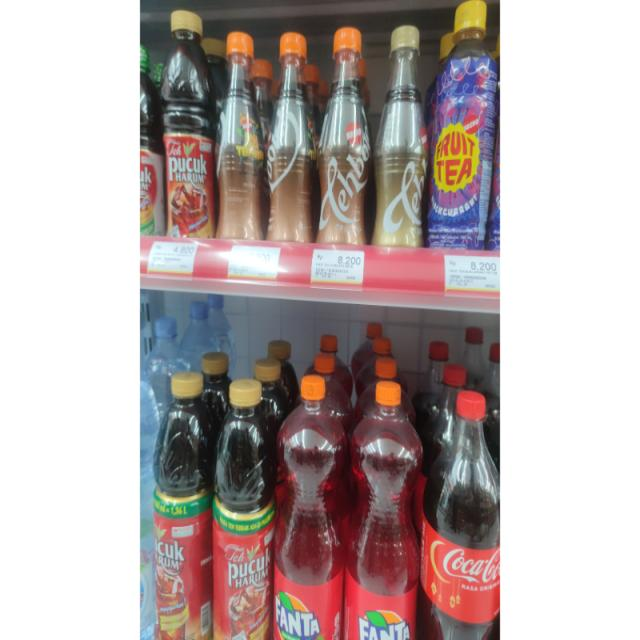botol: (425, 379, 521, 640), (343, 373, 418, 640), (423, 1, 501, 246), (281, 373, 349, 640), (157, 355, 219, 640), (214, 373, 278, 640), (316, 1, 377, 258), (205, 1, 270, 239), (373, 1, 432, 252), (164, 7, 216, 255), (269, 1, 316, 247)
